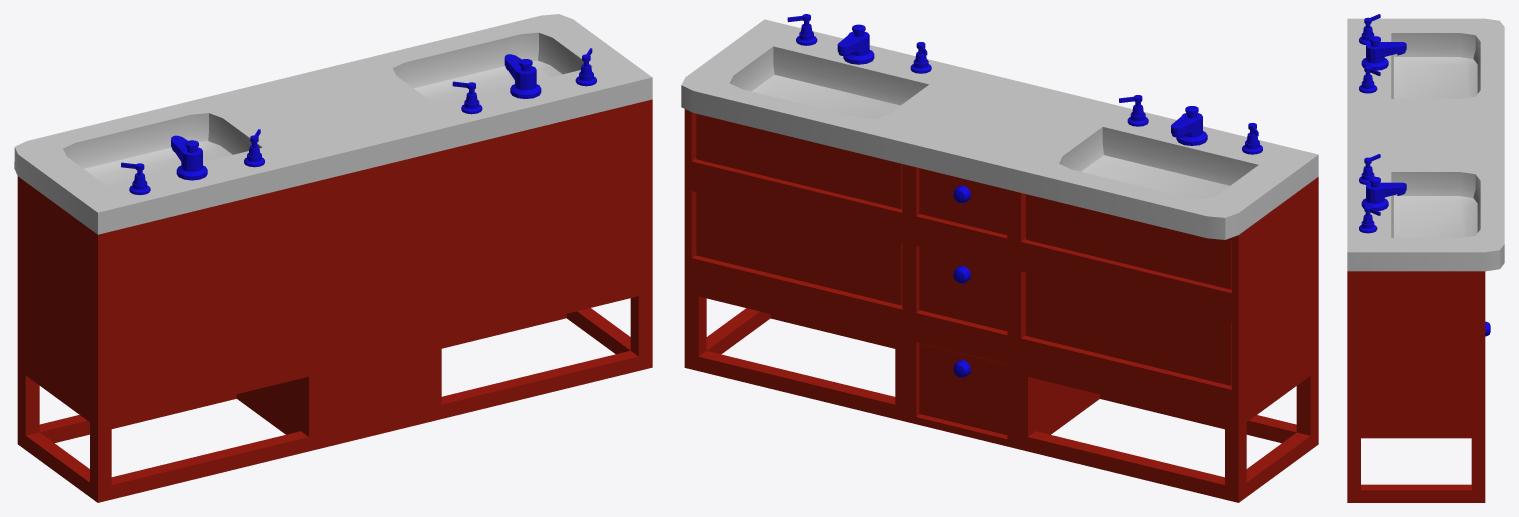
Rendered from SM_Sink_03.fbx.
The picture shows the model from 3 angles, left to right: view 1: azimuth 30°, elevation 25°; view 2: azimuth 150°, elevation 25°; view 3: azimuth 270°, elevation 25°; orthographic projection. The views are drawn at different scales.
Visible parts, largest first — view 1: SM_Sink_03; view 2: SM_Sink_03; view 3: SM_Sink_03.
Part boxes in pixels (x1,y1,x2,y2): SM_Sink_03: (14,14,652,502); SM_Sink_03: (681,14,1318,502); SM_Sink_03: (1347,14,1504,502).
Bounding box in the file's own units: 78.74 × 43.63 × 22.44.
